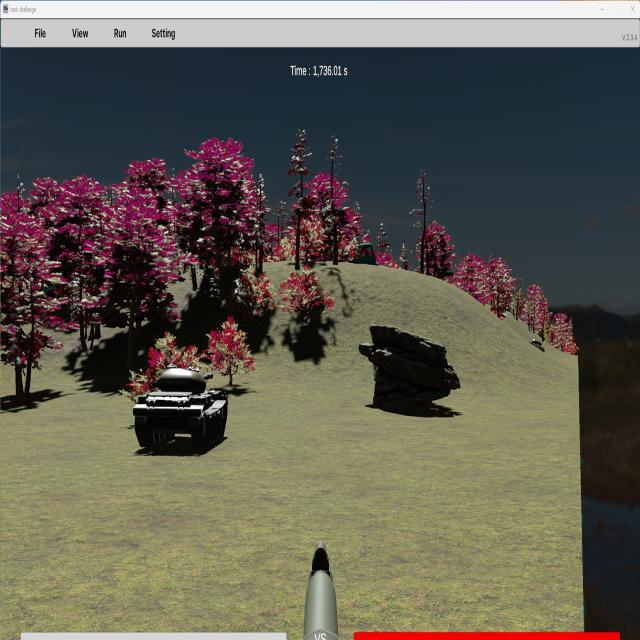Tank: (133, 361, 228, 453)
